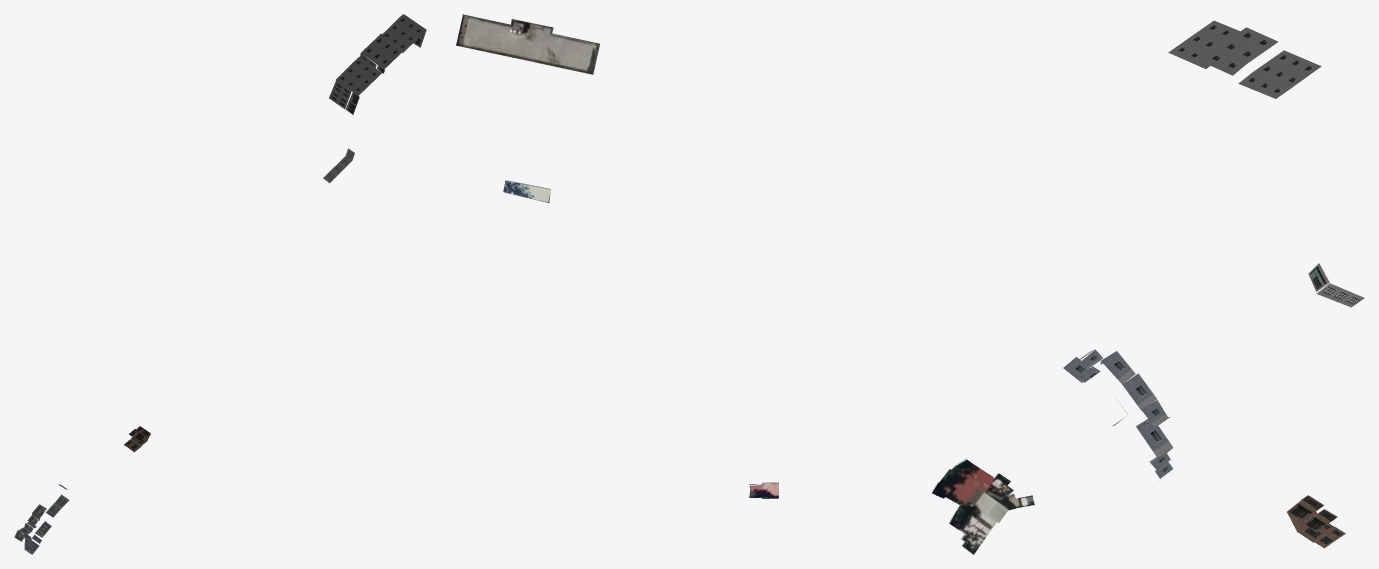
Rendered from tile_LOD4_r14_c10.glb.
3 views of the same model, side by side, from view 1: azimuth 30°, elevation 25°; view 2: azimuth 150°, elevation 25°; view 3: azimuth 270°, elevation 25° (orthographic). The views are drawn at different scales.
Size of the model in its own units: 197 by 168 by 56.
Materials: 17 (17 with a texture image).
